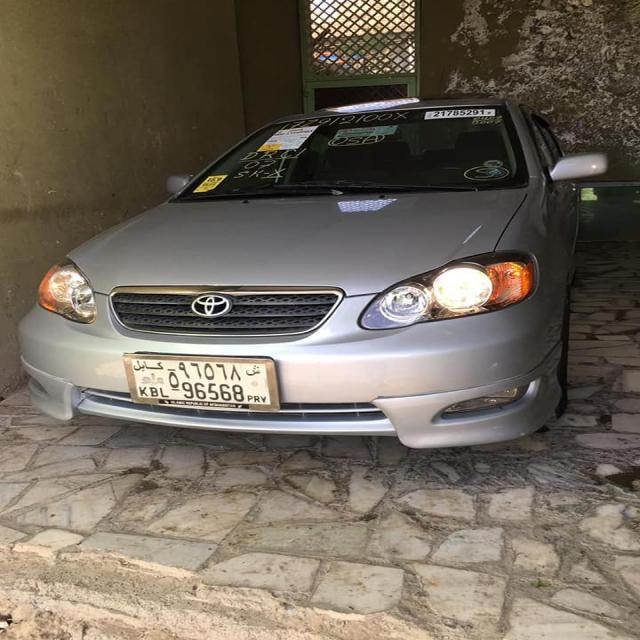Plate: (120, 350, 282, 416)
